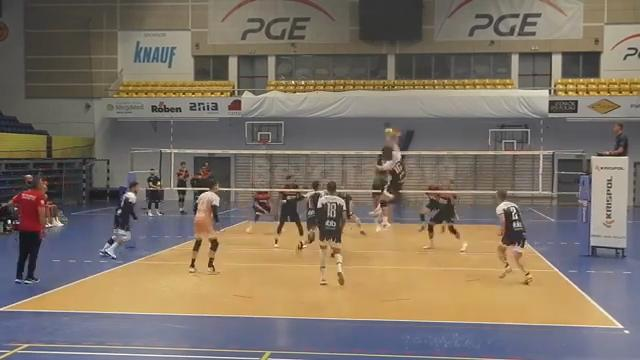Attack: (367, 132, 408, 233)
Player: (496, 191, 532, 284), (317, 181, 346, 284), (189, 180, 219, 274), (100, 182, 137, 258), (274, 175, 303, 246), (424, 193, 460, 248), (298, 180, 323, 249), (338, 193, 365, 235), (246, 191, 271, 232), (419, 185, 439, 231), (372, 154, 387, 208)
ball: (385, 127, 396, 135)
